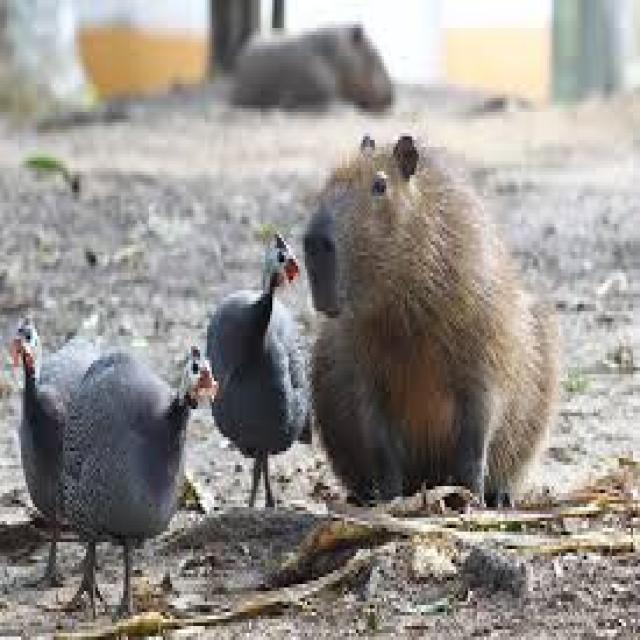capy: (301, 129, 558, 511)
